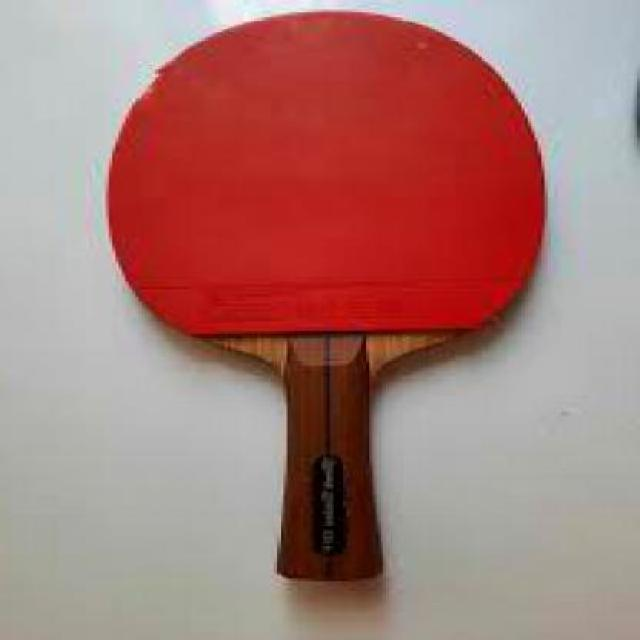table_tennis_racket: (98, 8, 554, 384)
